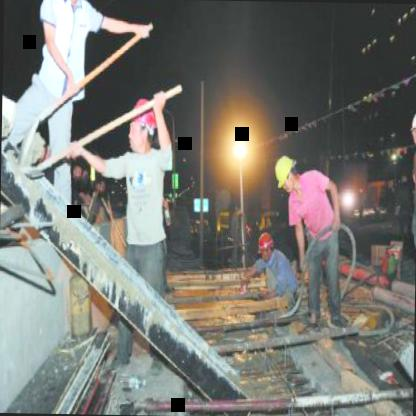helmet: (128, 104, 158, 152), (274, 153, 298, 196), (255, 230, 276, 262), (407, 106, 416, 153)
